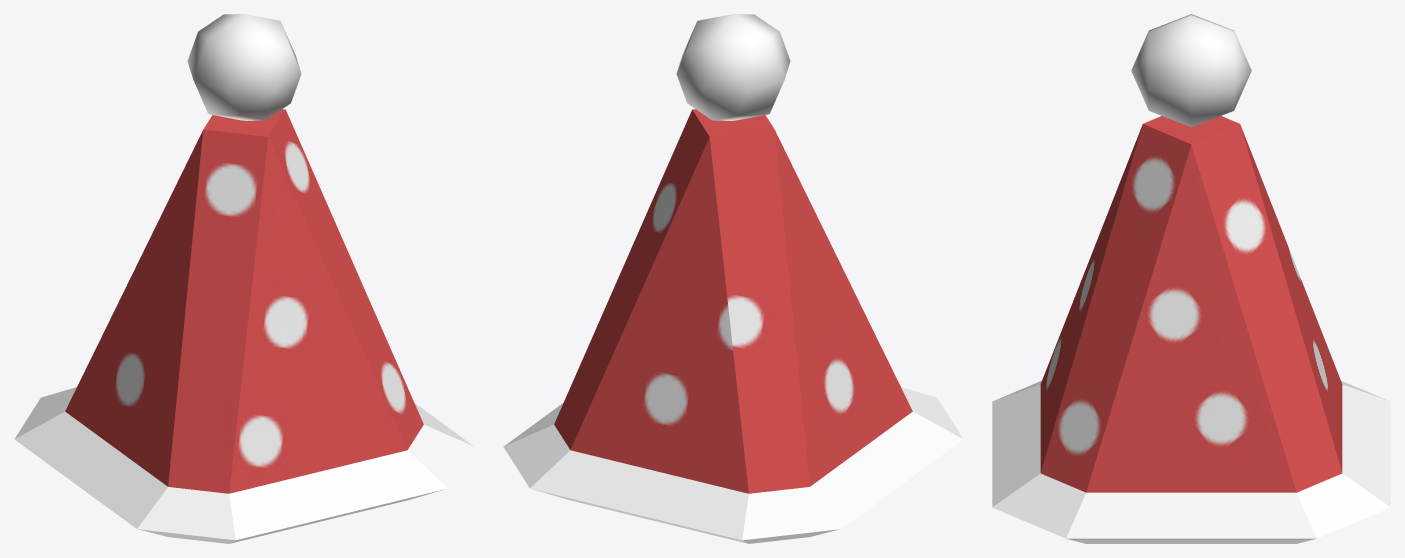
File: conehat.fbx
3 views of the same model, side by side, from view 1: azimuth 30°, elevation 25°; view 2: azimuth 150°, elevation 25°; view 3: azimuth 270°, elevation 25° (orthographic). The views are drawn at different scales.
Visible parts, largest first — view 1: conehat; view 2: conehat; view 3: conehat.
Boxes of the visible parts, bbox=[...] form: conehat: bbox=[14, 14, 474, 543]; conehat: bbox=[503, 14, 963, 543]; conehat: bbox=[992, 14, 1390, 543].
Size of the model in its own units: 66 by 84.82 by 66.
